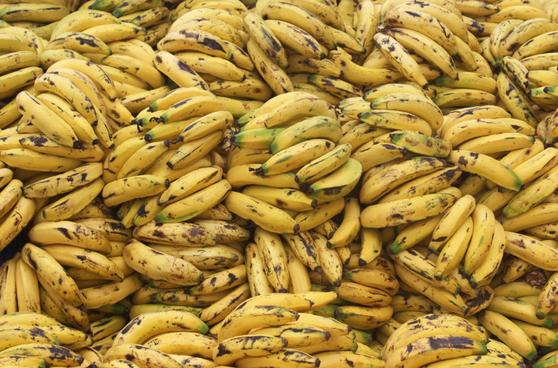banana: (251, 139, 337, 173), (106, 173, 172, 202)
